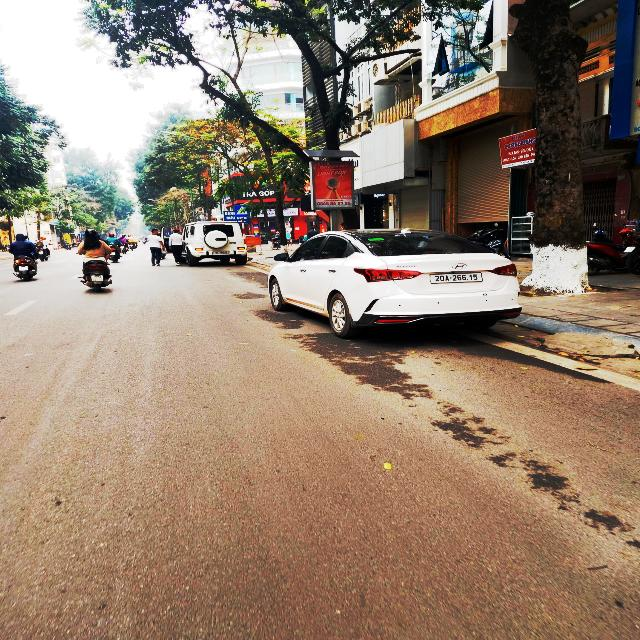license_plate: (430, 273, 483, 285)
